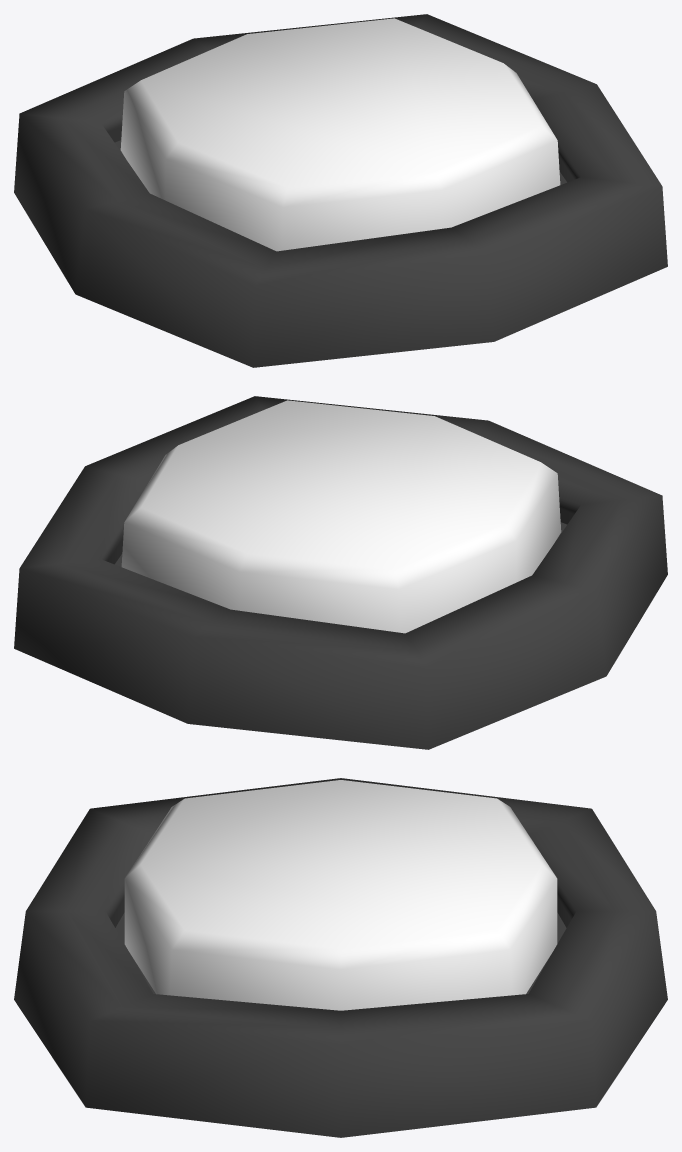
Rendered from Button1.fbx.
The picture shows the model from 3 angles, top to bottom: view 1: azimuth 30°, elevation 25°; view 2: azimuth 150°, elevation 25°; view 3: azimuth 270°, elevation 25°; orthographic projection. The views are drawn at different scales.
Visible parts, largest first — view 1: Cube, Cube.001; view 2: Cube, Cube.001; view 3: Cube, Cube.001.
Part boxes in pixels (x1,y1,x2,y2): Cube: (14, 14, 667, 367); Cube.001: (120, 18, 560, 251); Cube: (14, 396, 667, 749); Cube.001: (121, 400, 561, 633); Cube: (14, 778, 667, 1137); Cube.001: (124, 780, 557, 1010).
Bounding box in the file's own units: 238 × 54.23 × 238.
